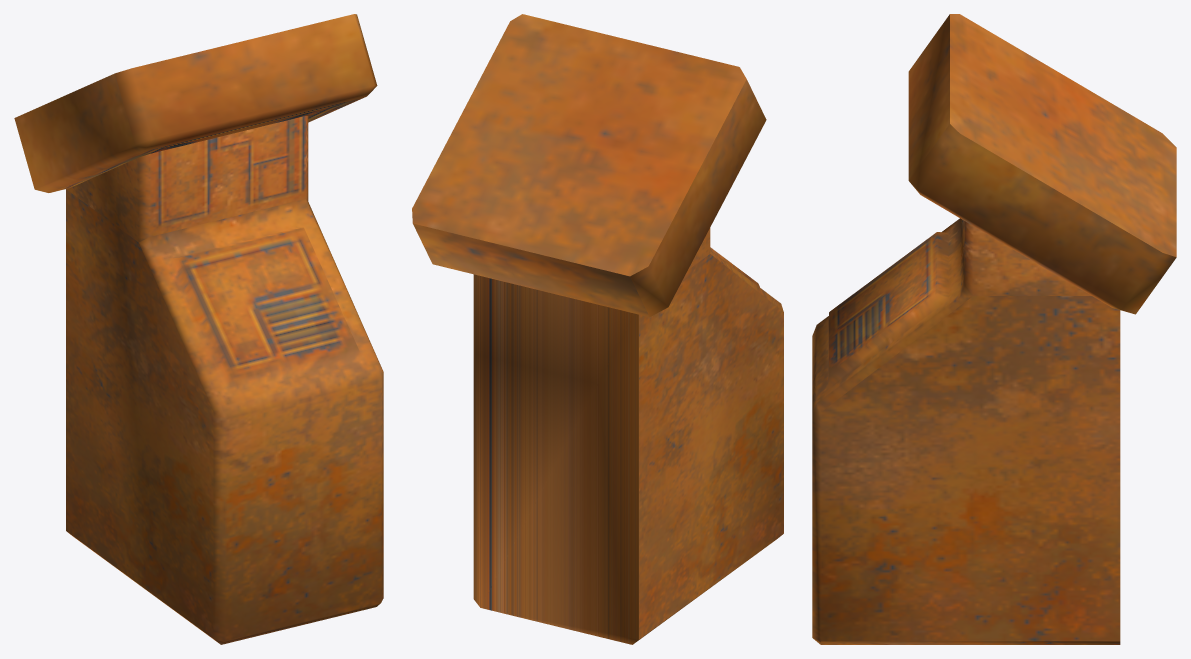
Rendered from 05_01_adon_fot_short.DAE.
3 views of the same model, side by side, from view 1: azimuth 30°, elevation 25°; view 2: azimuth 150°, elevation 25°; view 3: azimuth 270°, elevation 25° (orthographic). The views are drawn at different scales.
Parts seen in each view (by area): view 1: fot002; view 2: fot002; view 3: fot002.
Part boxes in pixels (x1,y1,x2,y2): fot002: (14, 14, 383, 644); fot002: (412, 14, 783, 644); fot002: (812, 14, 1176, 644).
Size of the model in its own units: 0.2862 by 0.6053 by 0.3693.
